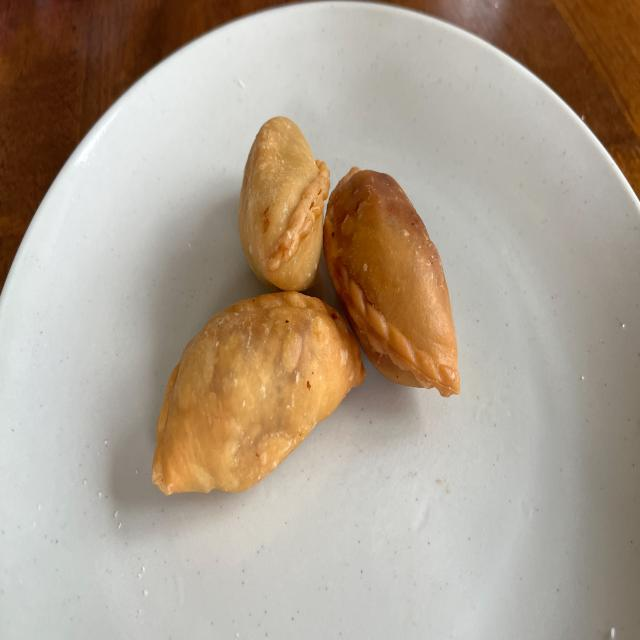karipap: (152, 291, 365, 496), (324, 167, 460, 398), (239, 118, 330, 291)
